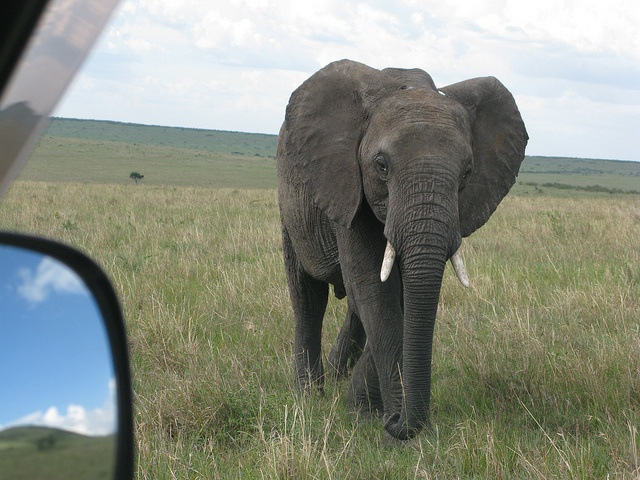elephant: (276, 58, 528, 439)
